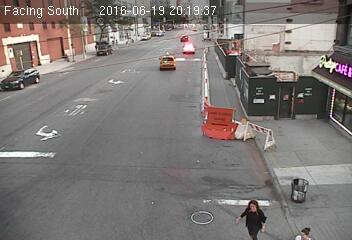neg: (242, 59, 265, 90), (207, 24, 230, 55), (245, 117, 265, 144)
pos: (236, 194, 267, 236)
